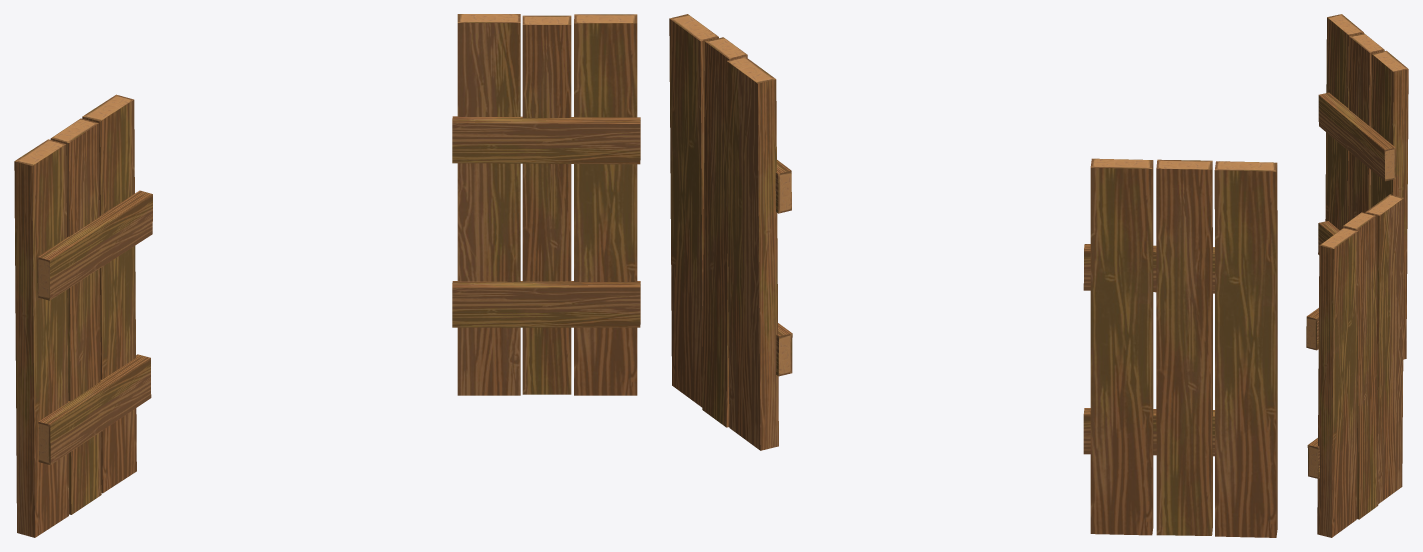
File: WindowShutters_Wide_Flat_Open.gltf
3 views of the same model, side by side, from view 1: azimuth 30°, elevation 25°; view 2: azimuth 150°, elevation 25°; view 3: azimuth 270°, elevation 25° (orthographic). The views are drawn at different scales.
Visible parts, largest first — view 1: WindowShutters_Wide_Flat_Open; view 2: WindowShutters_Wide_Flat_Open; view 3: WindowShutters_Wide_Flat_Open.
Part boxes in pixels (x1,y1,x2,y2): WindowShutters_Wide_Flat_Open: (14,14,640,537); WindowShutters_Wide_Flat_Open: (669,14,1277,537); WindowShutters_Wide_Flat_Open: (1306,14,1408,537).
Size of the model in its own units: 2.48 by 1.42 by 0.4565.
Materials: 1 (1 with a texture image).
